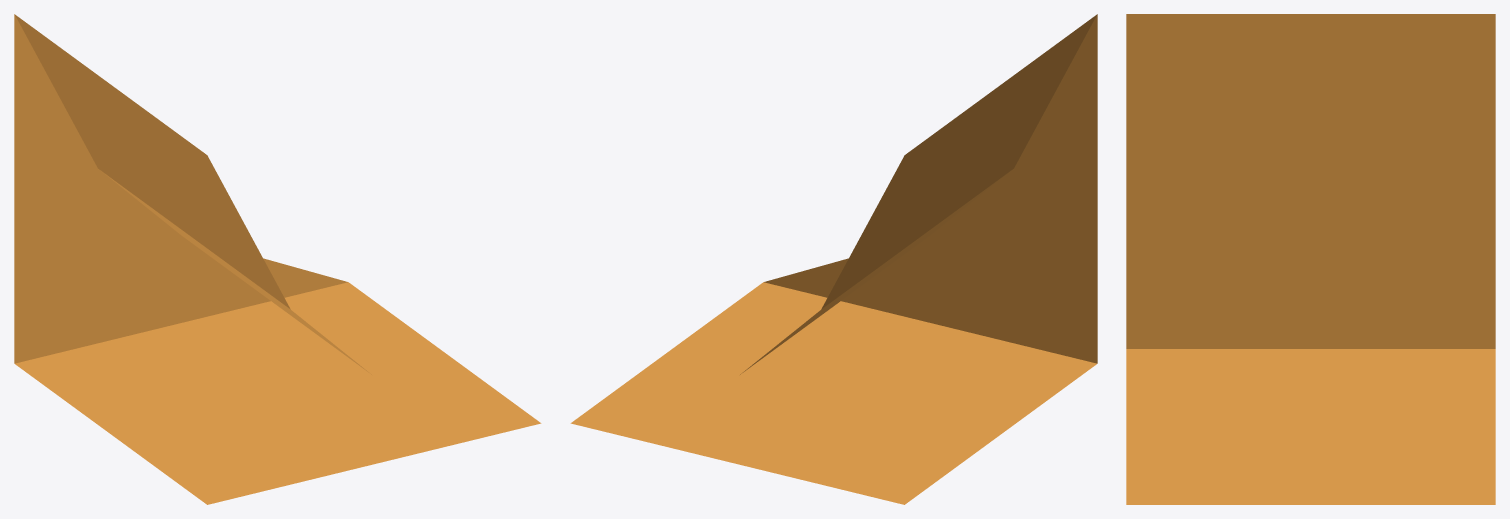
Rendered from r4c4_border_orange.gltf.
3 views of the same model, side by side, from view 1: azimuth 30°, elevation 25°; view 2: azimuth 150°, elevation 25°; view 3: azimuth 270°, elevation 25° (orthographic). The views are drawn at different scales.
Visible parts, largest first — view 1: r4c4_border_orange; view 2: r4c4_border_orange; view 3: r4c4_border_orange.
Boxes of the visible parts, left/top/right/bottom form: r4c4_border_orange: left=14, top=14, right=541, bottom=504; r4c4_border_orange: left=570, top=14, right=1097, bottom=504; r4c4_border_orange: left=1126, top=14, right=1495, bottom=504.
Size of the model in its own units: 2.1 by 2.1 by 2.1.
Materials: 1 (1 with a texture image).
